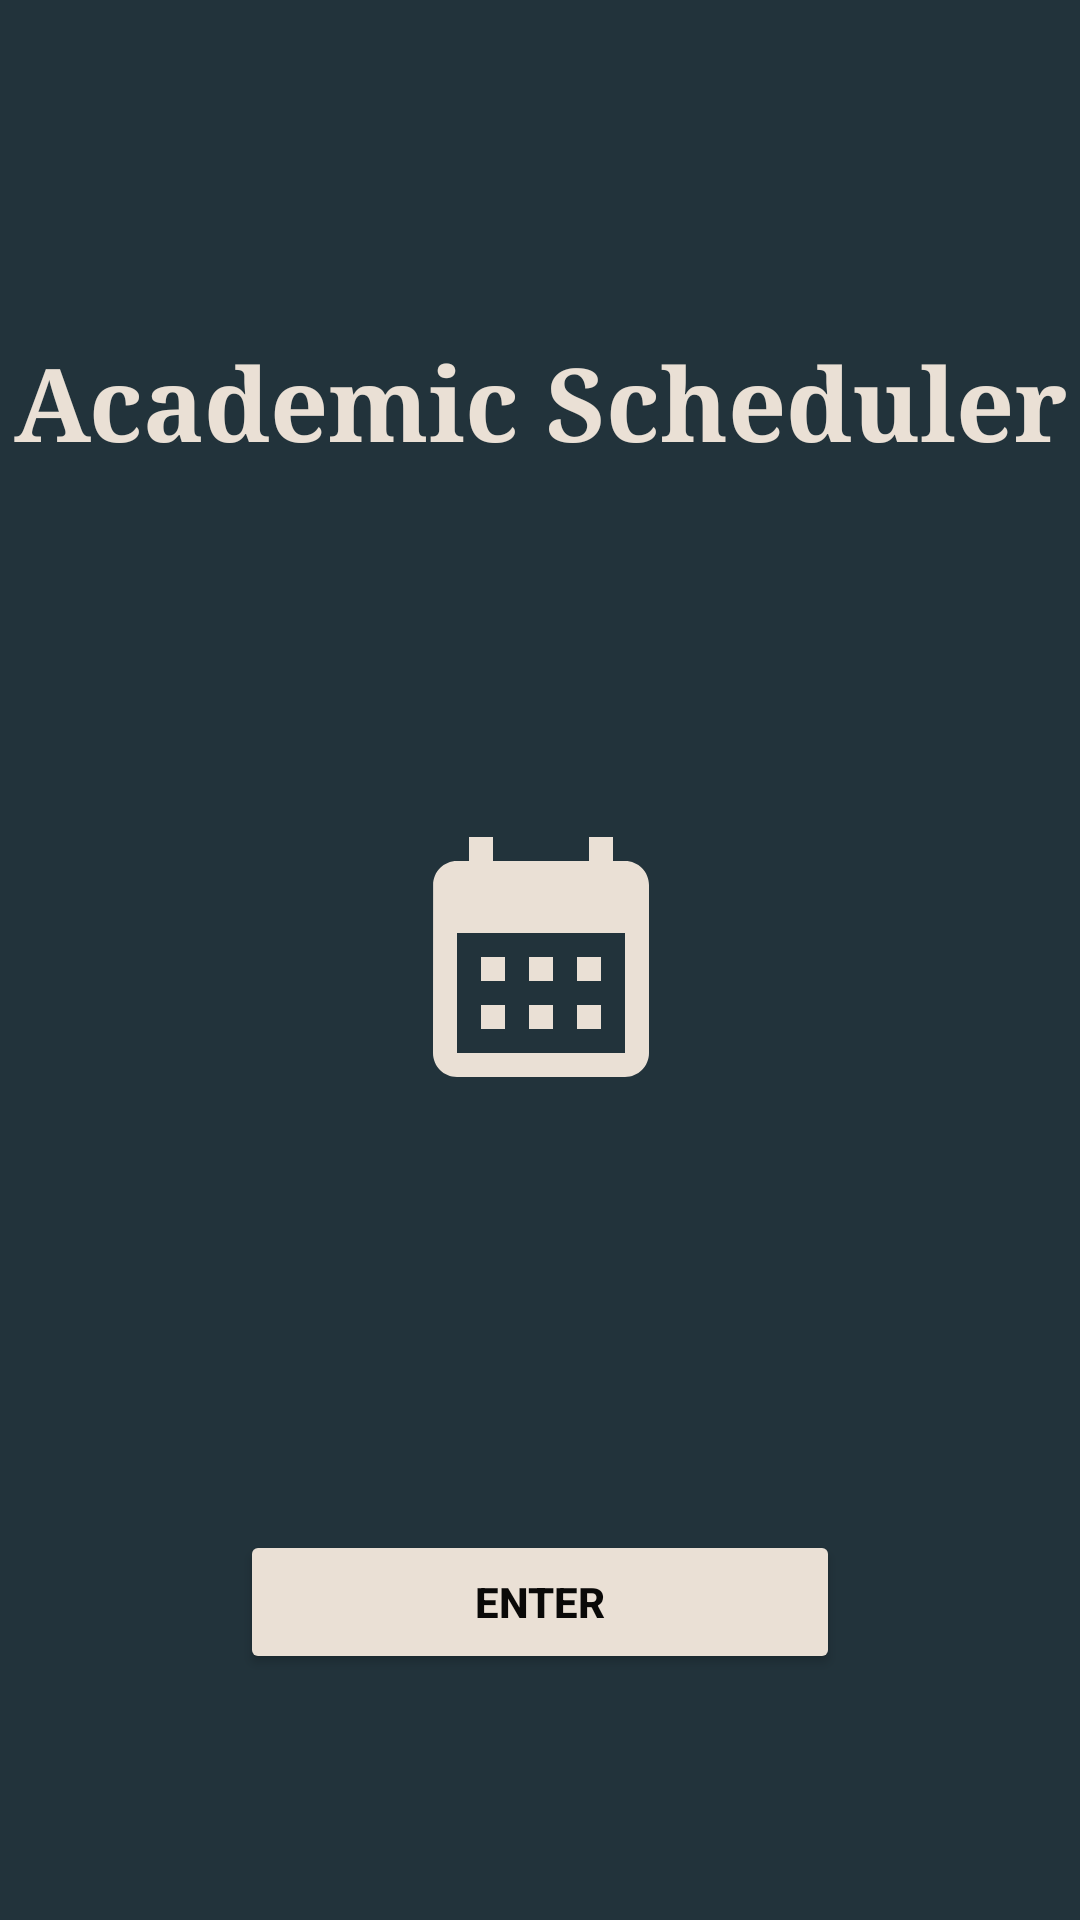

Locate icon controls on the screen. Image size 1080 x 1920, boxes as {"x1": x1, "y1": y1, "x2": x2, "y2": y2}.
calender: {"x1": 433, "y1": 837, "x2": 649, "y2": 1077}
